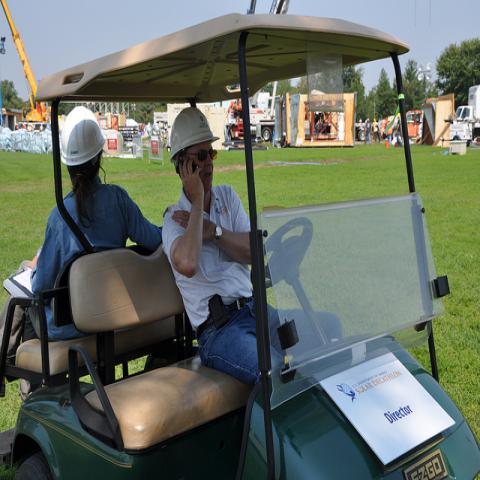car: (5, 11, 479, 478)
truck: (449, 86, 479, 148), (255, 119, 276, 141)
